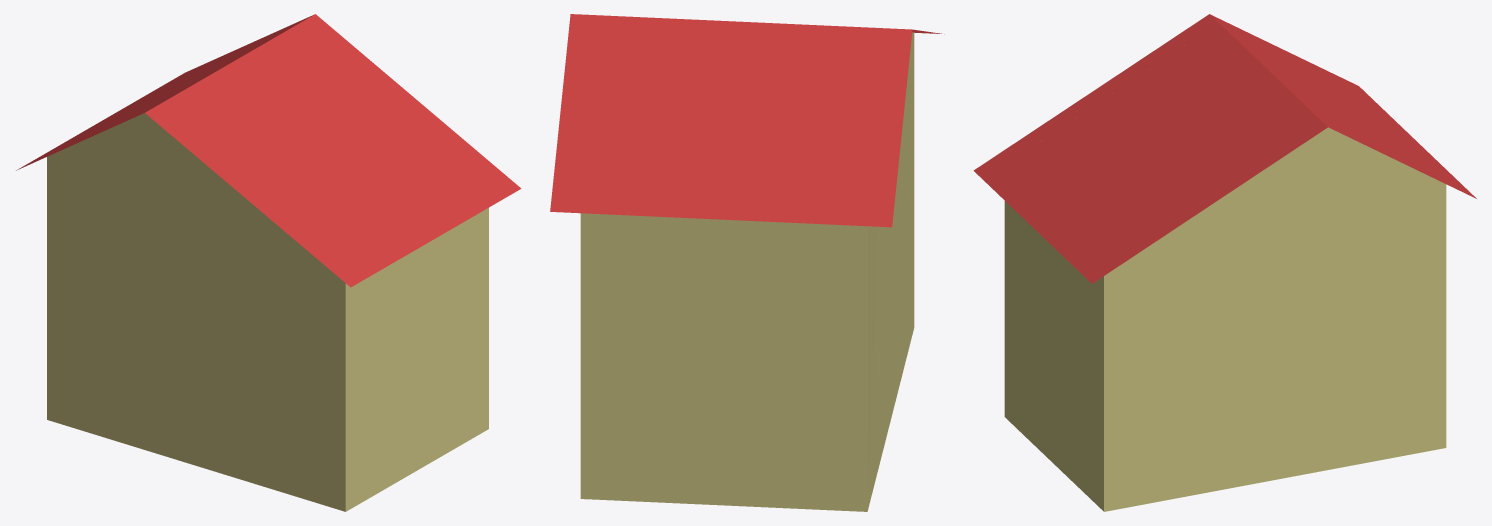
3 renders of one model, left to right at view 1: azimuth 30°, elevation 25°; view 2: azimuth 150°, elevation 25°; view 3: azimuth 270°, elevation 25°, orthographic. The views are drawn at different scales.
Parts seen in each view (by area): view 1: group_5, group_3, group_4; view 2: group_5, group_3; view 3: group_5, group_3, group_4.
Boxes of the visible parts, <box> form: group_5: <box>47,113,488,511</box>; group_3: <box>16,14,520,263</box>; group_4: <box>145,14,519,287</box>; group_5: <box>580,32,914,511</box>; group_3: <box>550,14,944,227</box>; group_5: <box>1004,127,1446,511</box>; group_3: <box>1005,14,1476,283</box>; group_4: <box>973,14,1327,282</box>.
Size of the model in its own units: 13.95 by 16.02 by 12.4.
